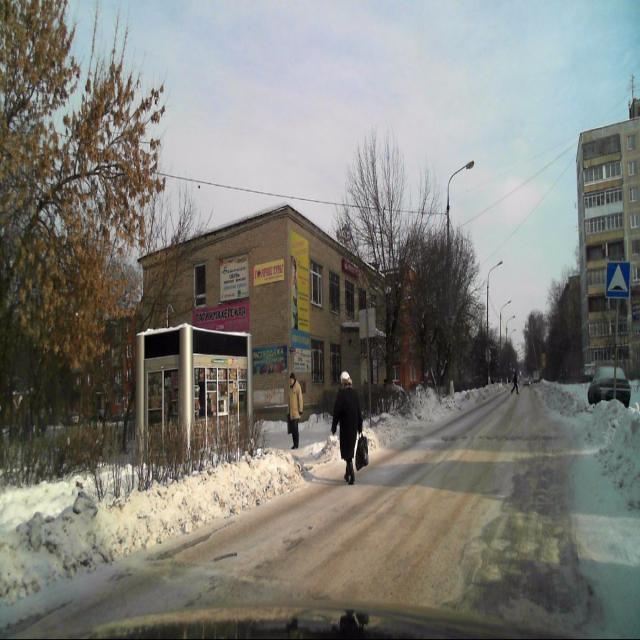road sign: (606, 261, 630, 300)
